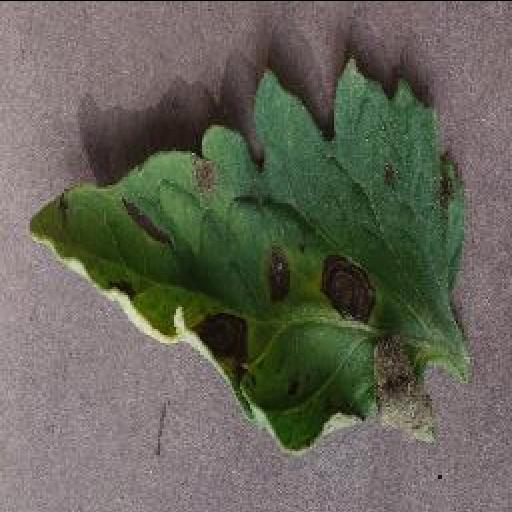Early Blight: (22, 56, 480, 453)
